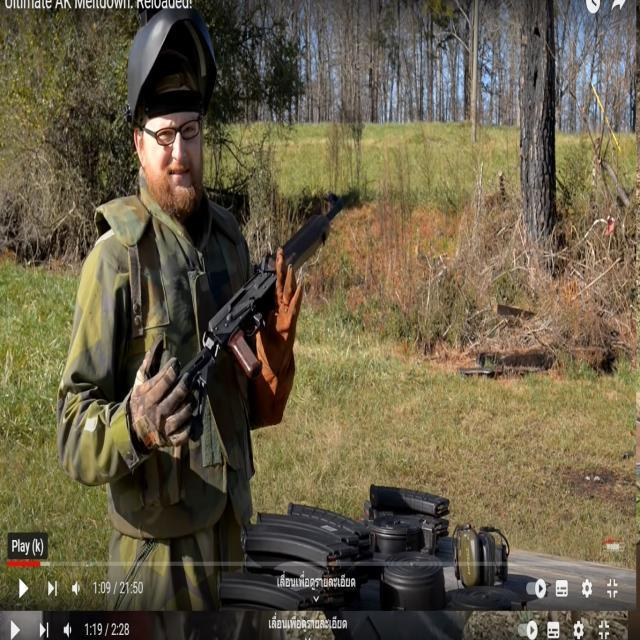ak: (144, 186, 359, 446)
